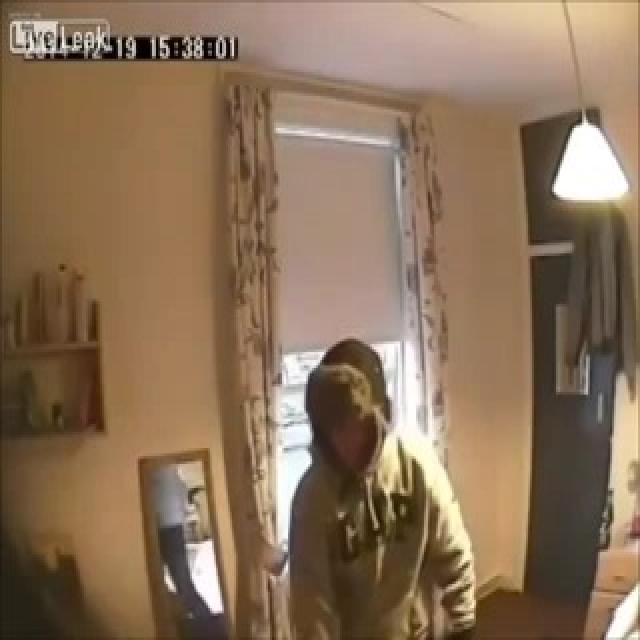thief: (284, 327, 406, 550)
